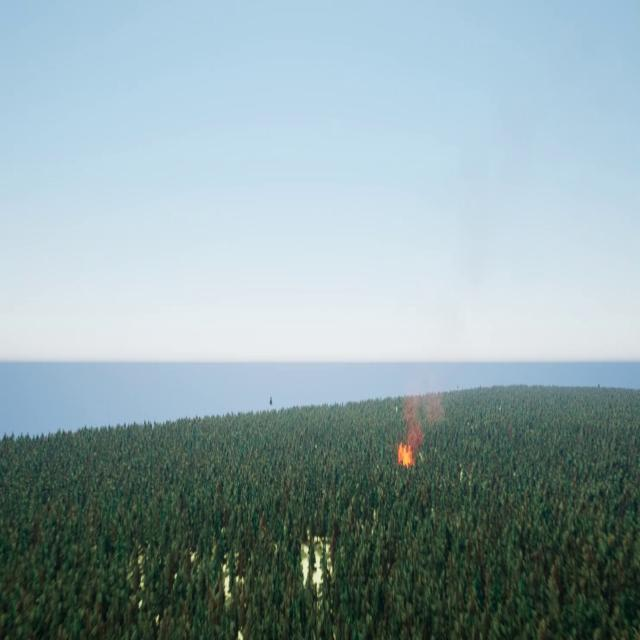fire: (394, 444, 416, 463)
smoke: (403, 384, 448, 442)
